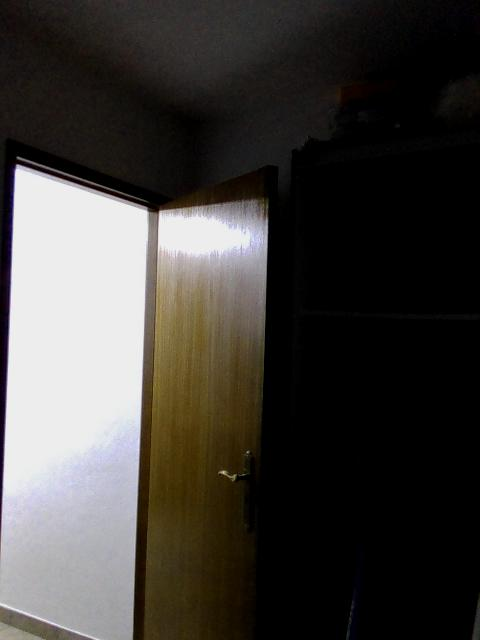open_door: (1, 136, 188, 638)
